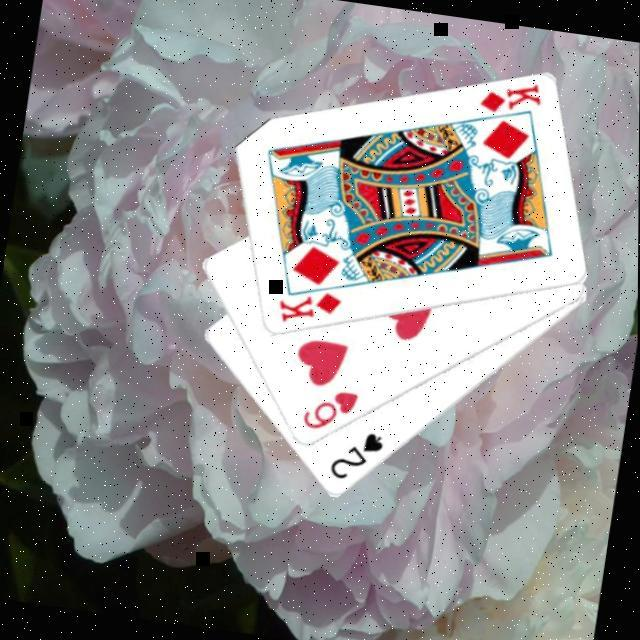2S: (323, 422, 387, 487)
6H: (296, 381, 361, 437)
KD: (271, 282, 344, 331), (474, 71, 544, 120)
